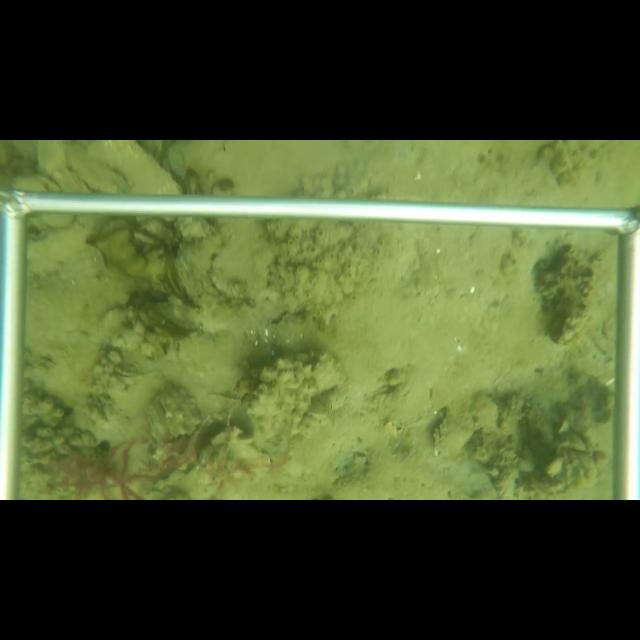Oyster-Open: (164, 241, 205, 310)
